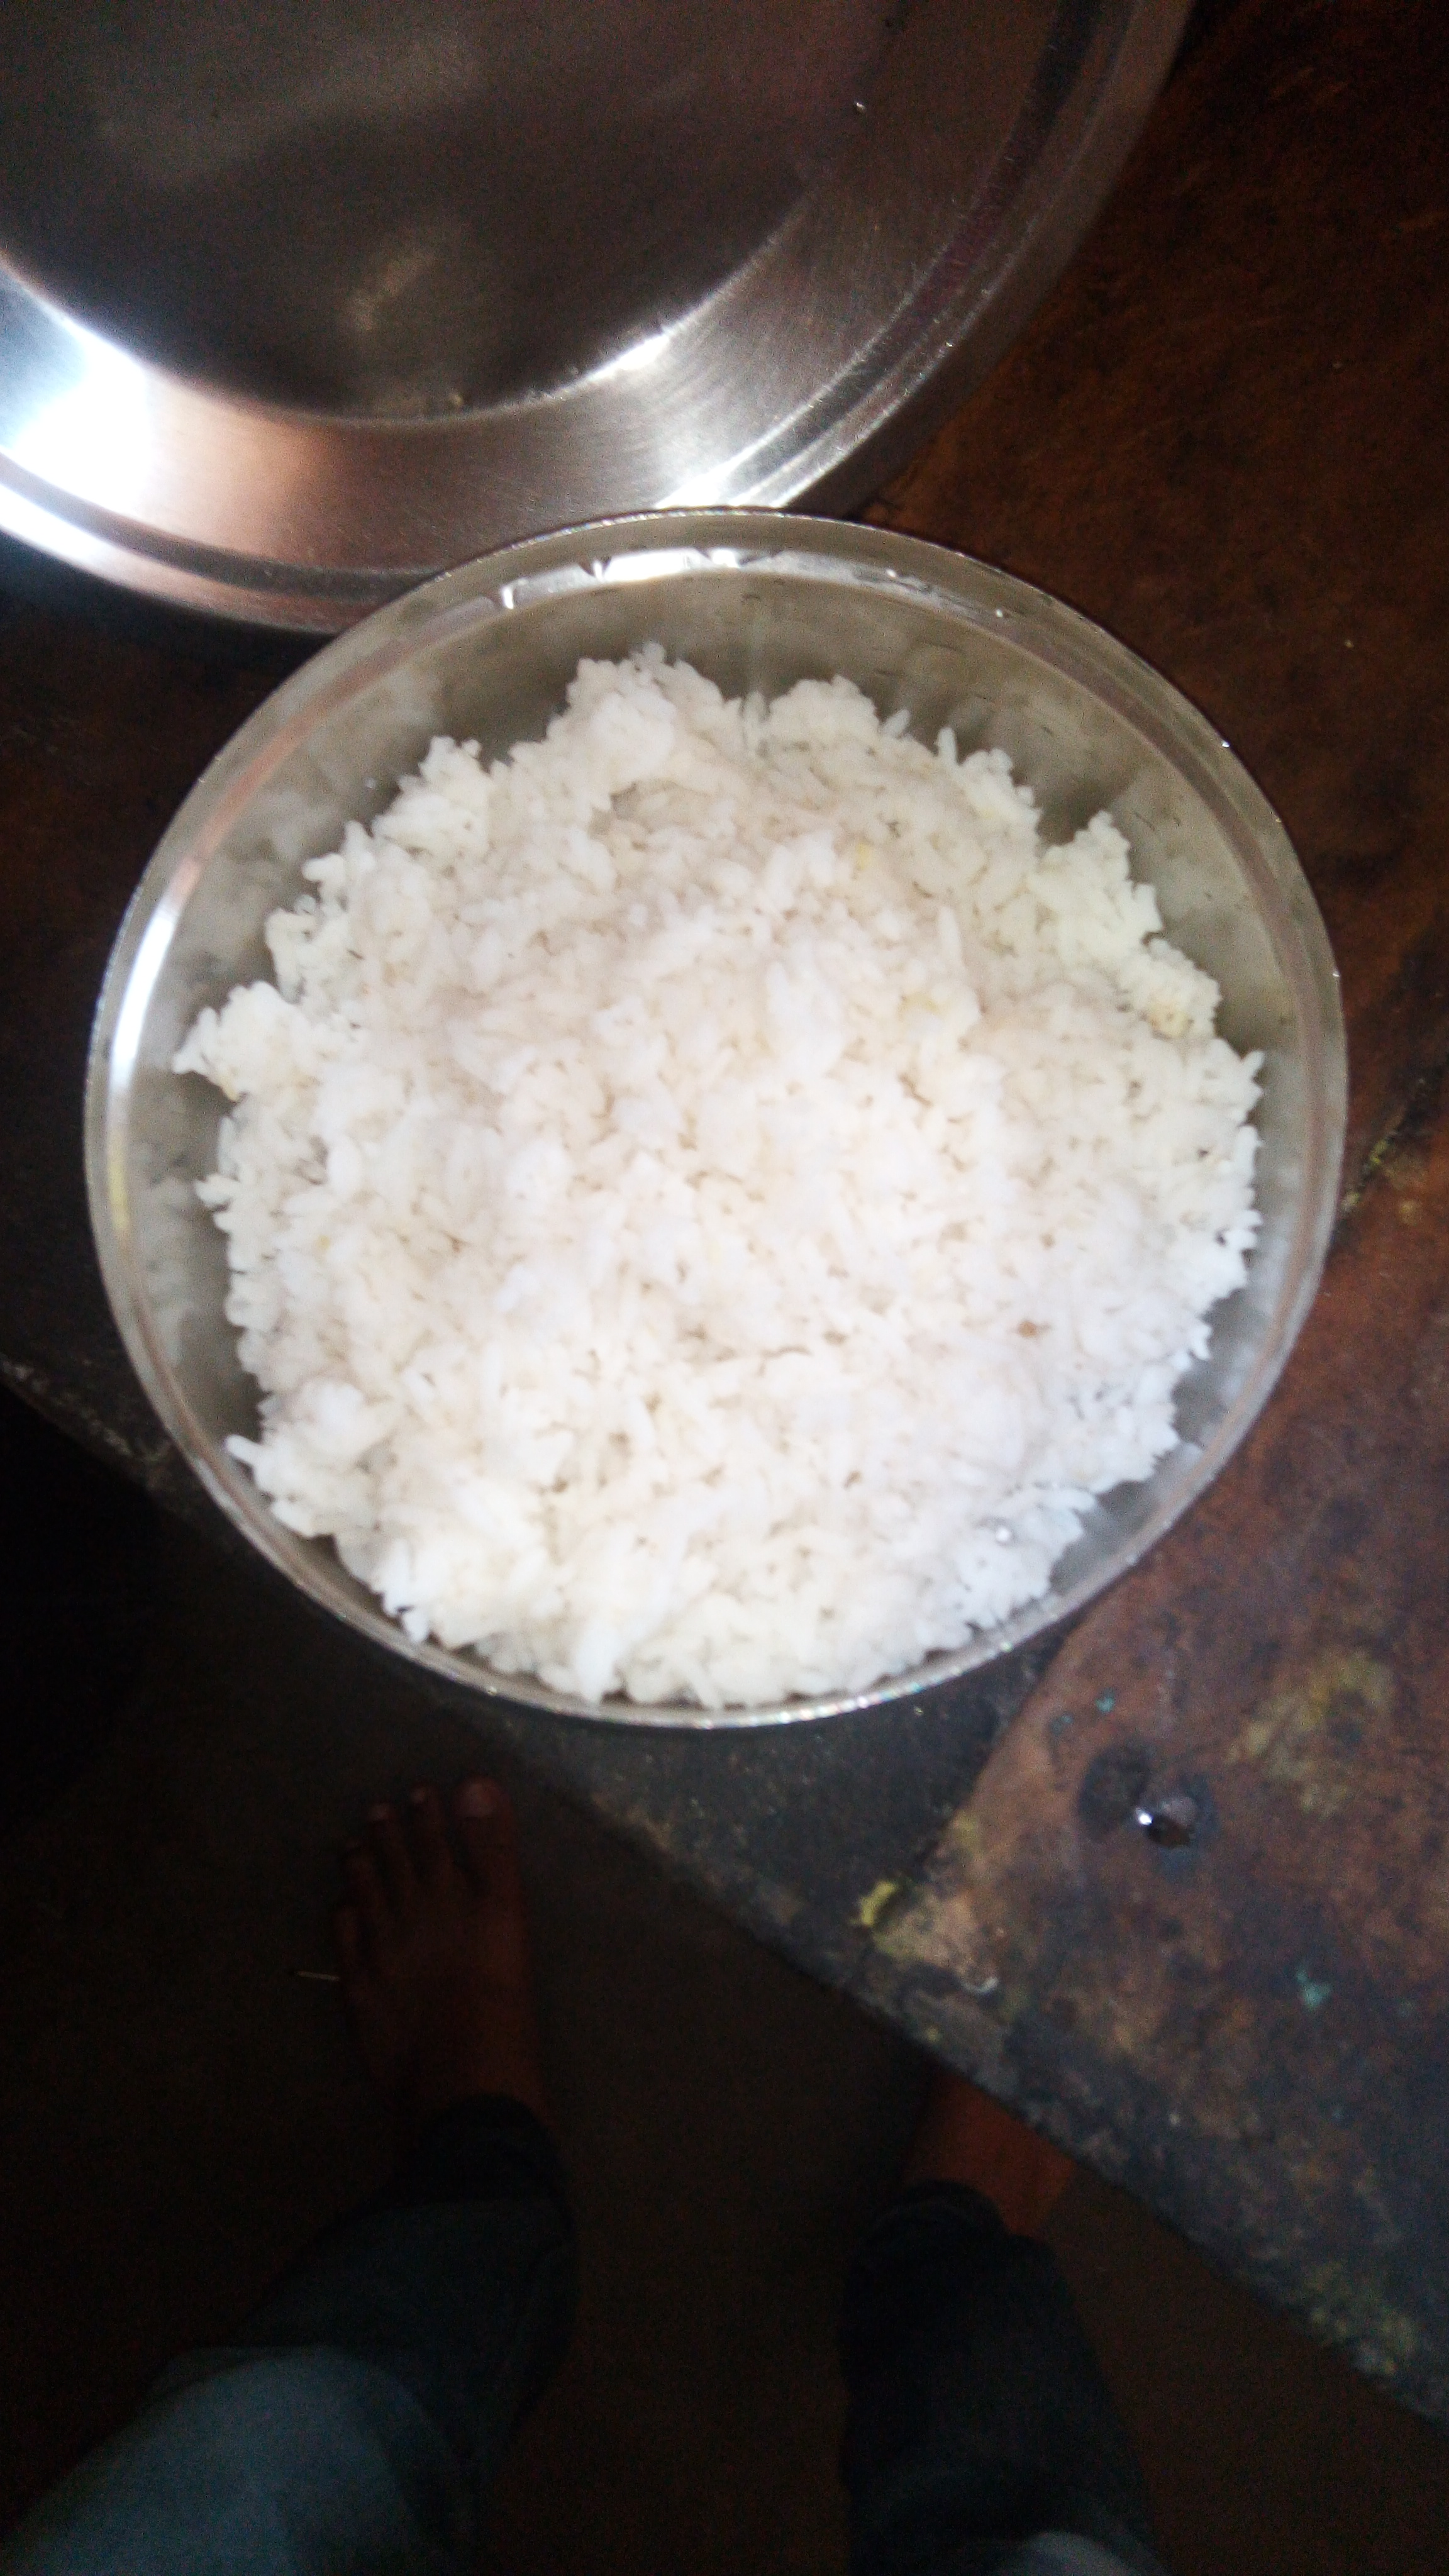food: (161, 633, 1279, 1721)
